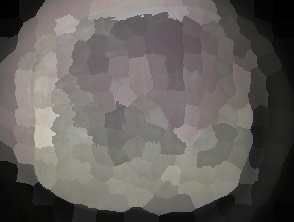Nail_psoriasis: (25, 0, 273, 222)
